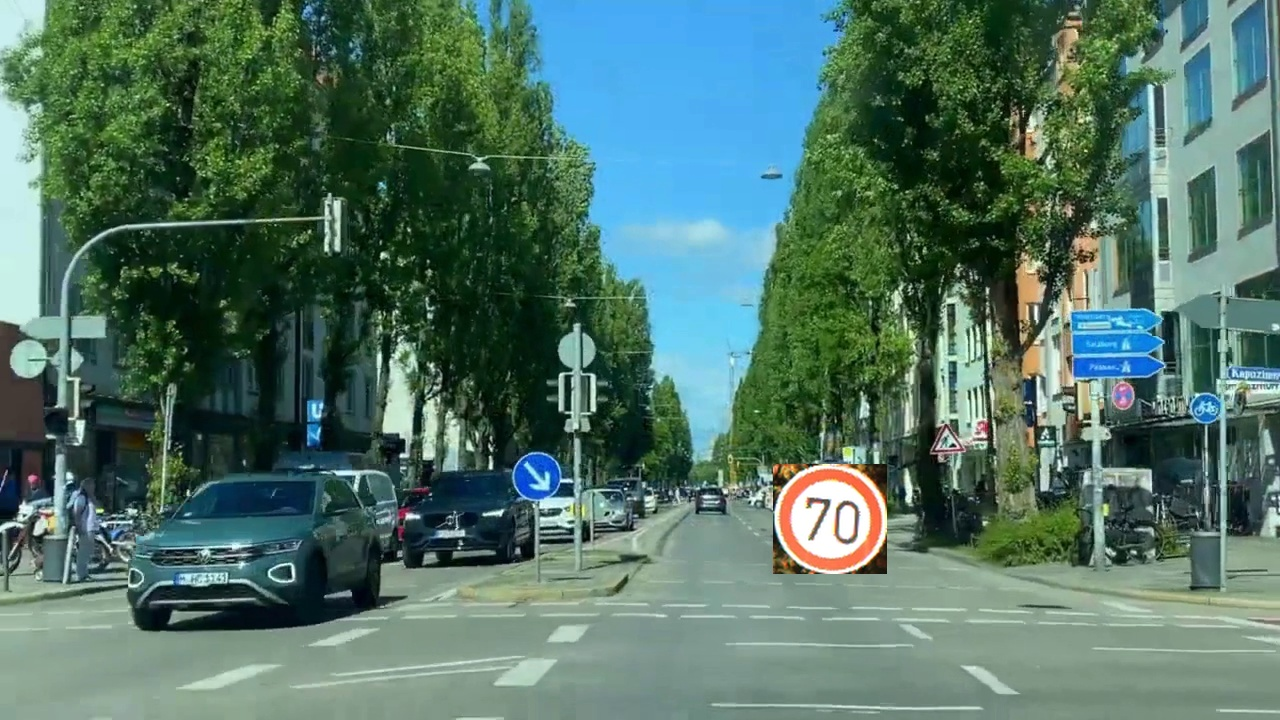Speed 70: (773, 464, 887, 574)
